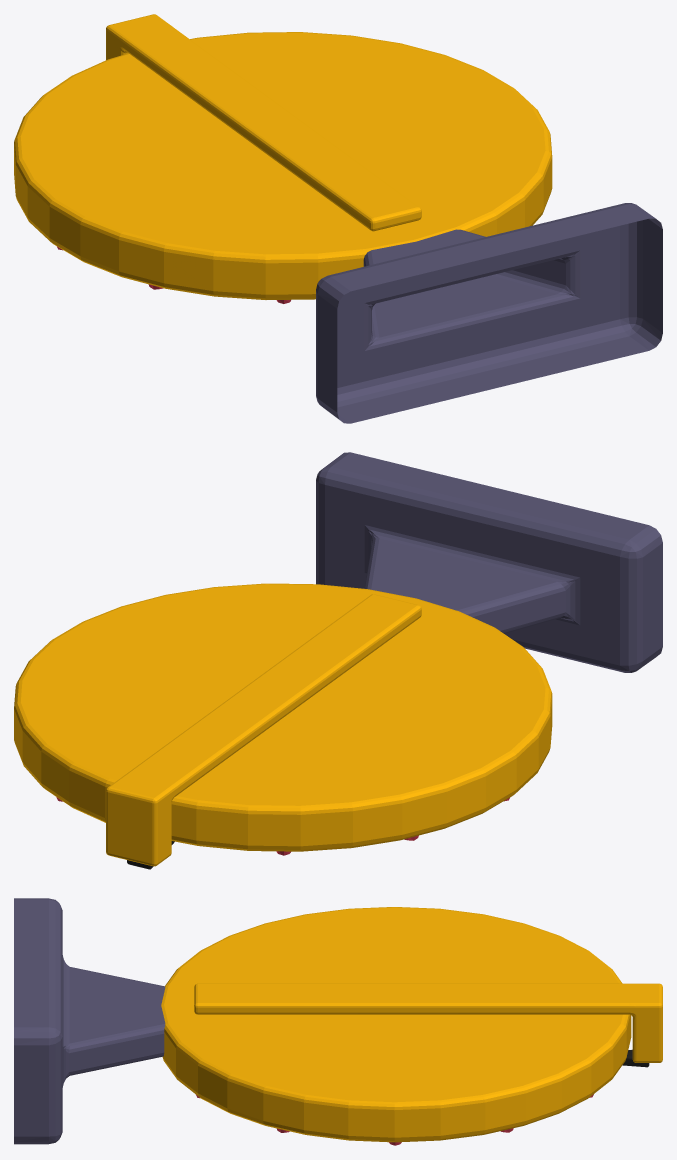
3 renders of one model, top to bottom at view 1: azimuth 30°, elevation 25°; view 2: azimuth 150°, elevation 25°; view 3: azimuth 270°, elevation 25°, orthographic. The views are drawn at different scales.
Visible parts, largest first — view 1: imagetostl_mesh; view 2: imagetostl_mesh; view 3: imagetostl_mesh.
Part boxes in pixels (<box>): imagetostl_mesh: <box>14,14,662,423</box>; imagetostl_mesh: <box>14,452,662,869</box>; imagetostl_mesh: <box>14,898,662,1145</box>.
Size of the model in its own units: 129 by 34.97 by 177.
